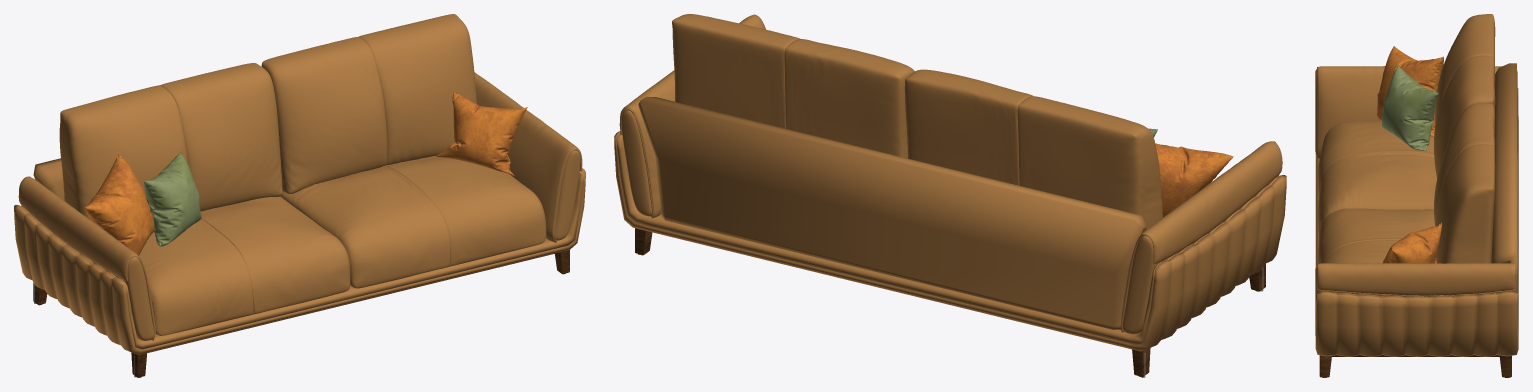
Rendered from Sofa-test-transformed.glb.
3 views of the same model, side by side, from view 1: azimuth 30°, elevation 25°; view 2: azimuth 150°, elevation 25°; view 3: azimuth 270°, elevation 25° (orthographic). The views are drawn at different scales.
Parts seen in each view (by area): view 1: Stands, Back seat R, Cussion.002, Cussion.001, Taylor Sofa.001; view 2: Stands, Back seat R, Cussion.002, Taylor Sofa.001; view 3: Stands, Back seat R, Cussion.002, Cussion.001, Taylor Sofa.001.
Part boxes in pixels (left/top/right/bottom): Stands: left=14, top=14, right=585, bottom=354; Back seat R: left=59, top=63, right=283, bottom=219; Cussion.002: left=84, top=92, right=527, bottom=255; Cussion.001: left=144, top=152, right=201, bottom=246; Taylor Sofa.001: left=33, top=250, right=569, bottom=377; Stands: left=614, top=14, right=1286, bottom=351; Back seat R: left=904, top=69, right=1162, bottom=228; Cussion.002: left=1155, top=143, right=1233, bottom=217; Taylor Sofa.001: left=635, top=228, right=1265, bottom=376; Stands: left=1315, top=63, right=1518, bottom=356; Back seat R: left=1434, top=14, right=1495, bottom=178; Cussion.002: left=1377, top=46, right=1443, bottom=263; Cussion.001: left=1382, top=65, right=1438, bottom=151; Taylor Sofa.001: left=1319, top=355, right=1511, bottom=377.
Size of the model in its own units: 2.24 by 0.913 by 0.9185.
5 materials, 3 textured.
